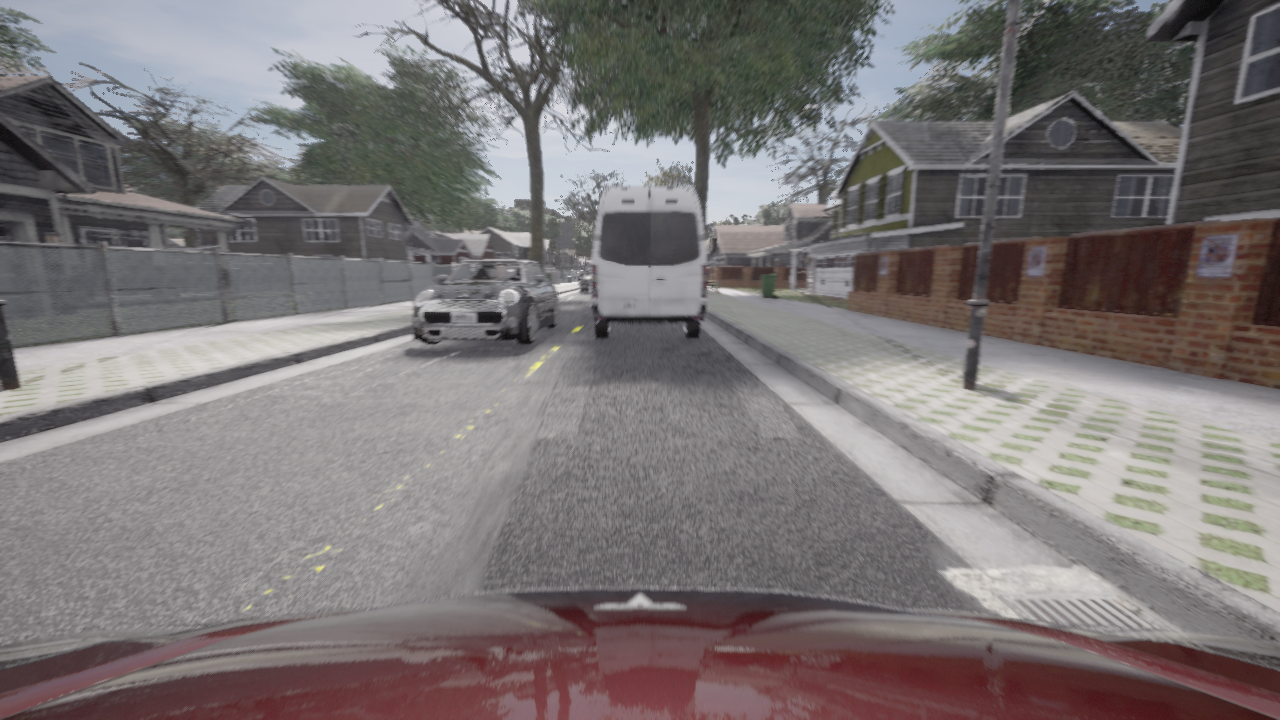cyclist: (0, 588, 1279, 719), (590, 186, 707, 338), (411, 259, 558, 344), (580, 268, 590, 293)
pedestrian: (543, 266, 544, 273)
